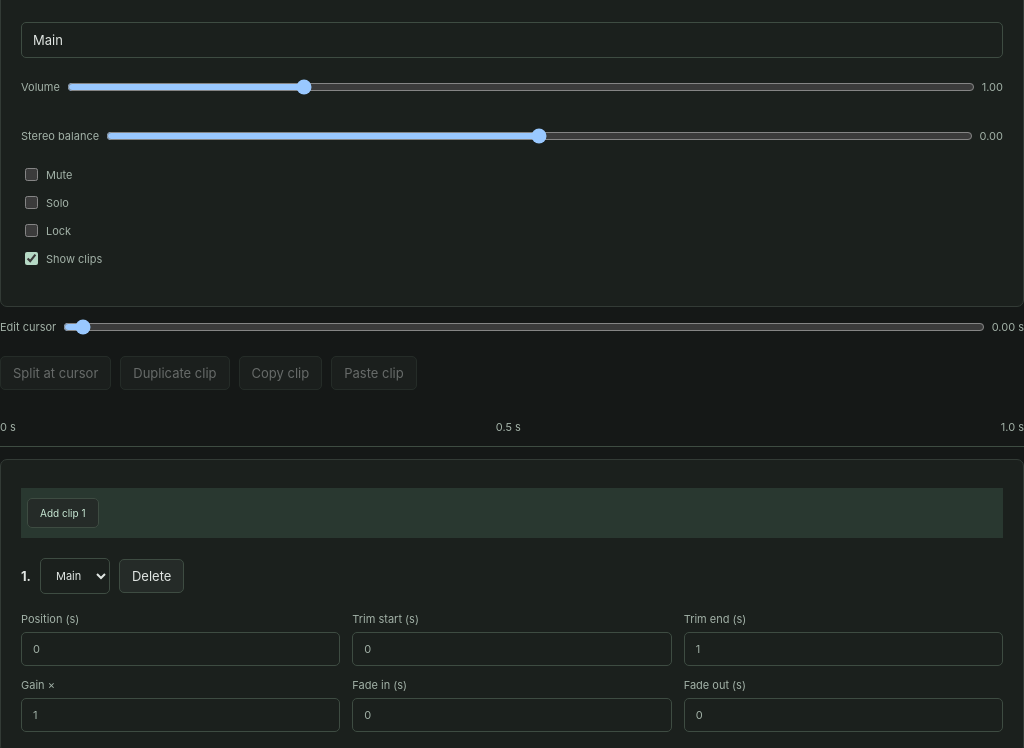
it: blocks restoring history while local edits are unsaved
(page scrolled)
Replace the text in the number field labelled "Position (s)" with "2": coordinates (181, 649) [21,632,340,666]
(page scrolled)
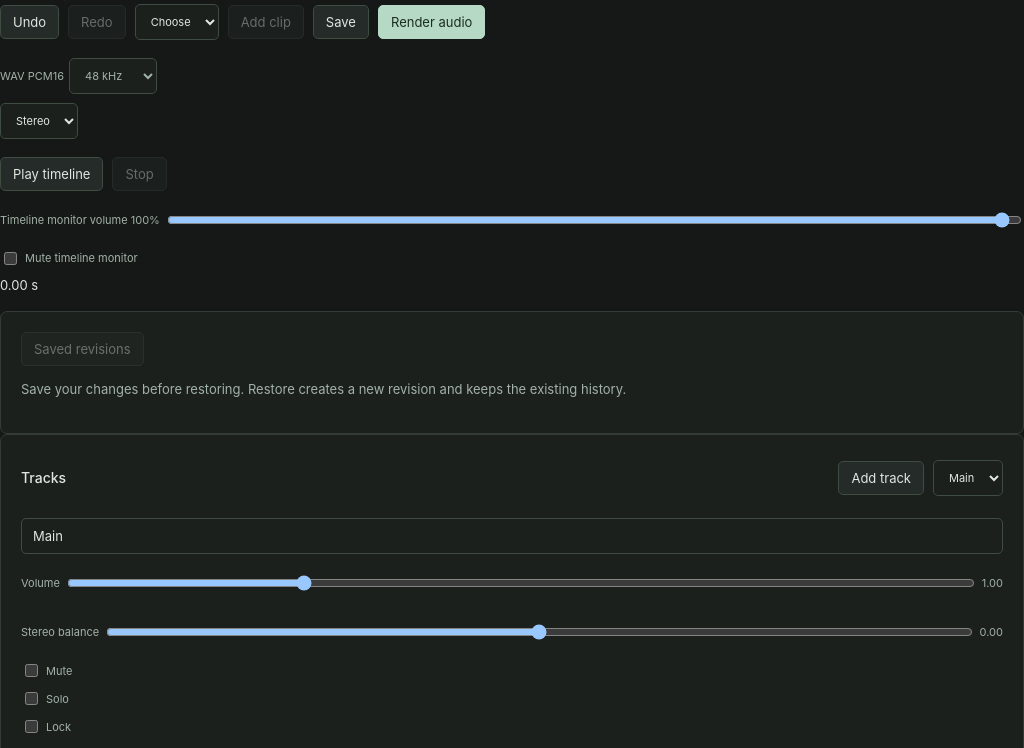
Expected: the button "Saved revisions" is disabled, [21,332,144,366]
